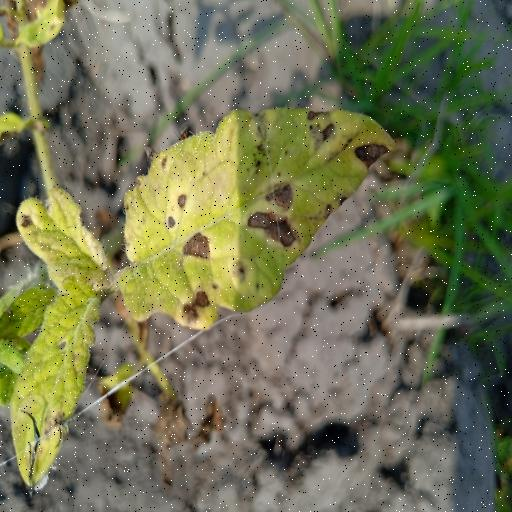Tomato_Brown_Spots: (121, 98, 397, 342), (0, 178, 110, 492)
